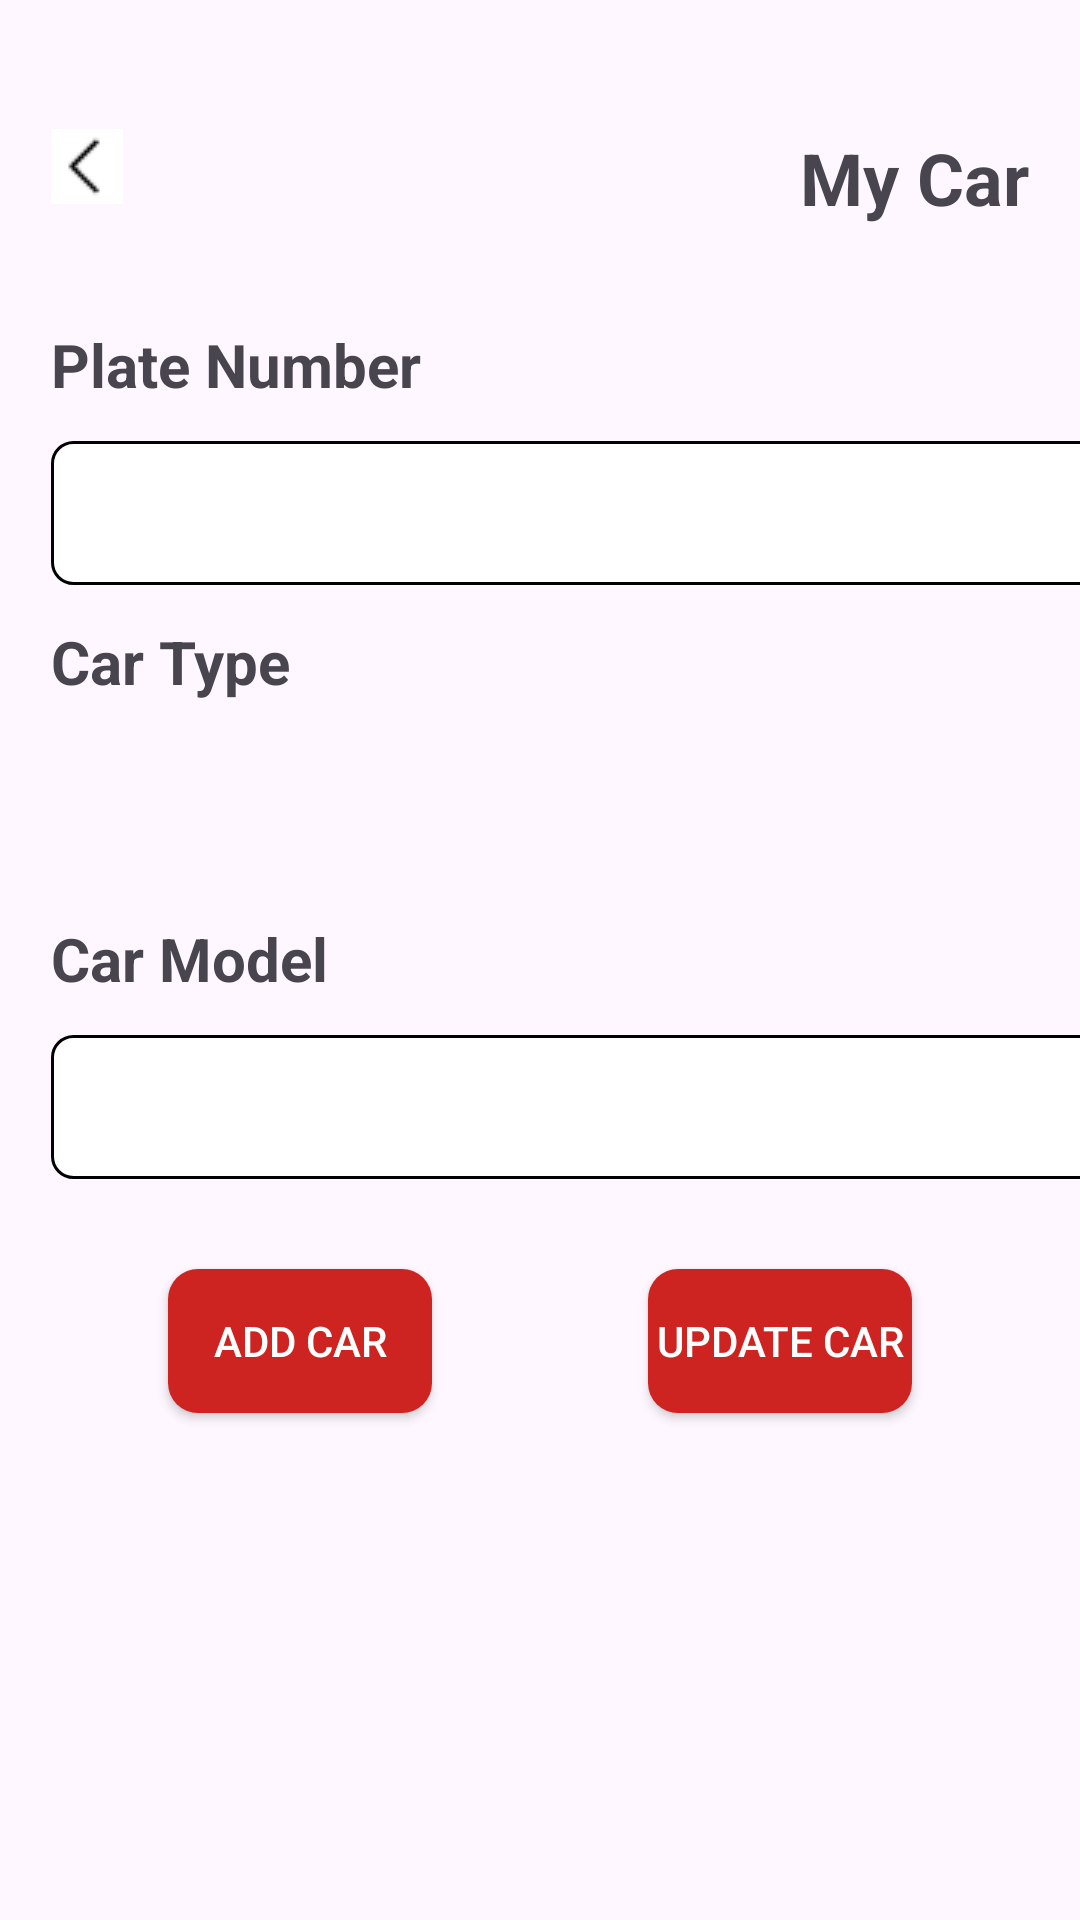

Point at icon controls on the screen. Image size 1080 x 1920, points as (x=x, y=y).
back: (x=84, y=166)
